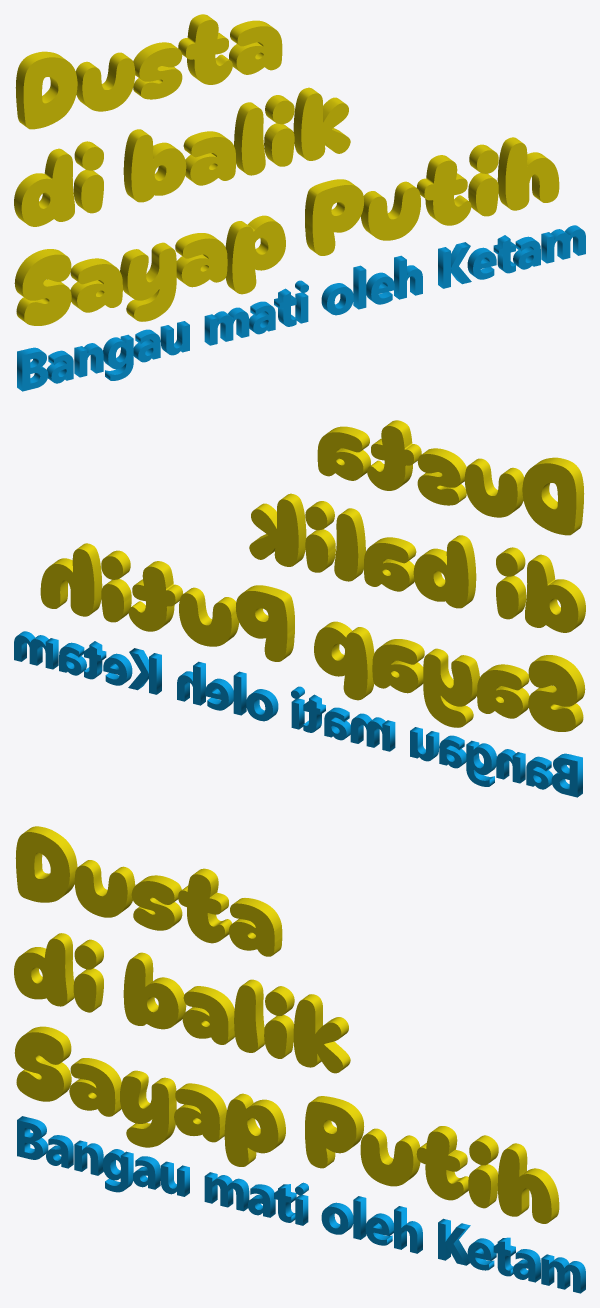
3 renders of one model, top to bottom at view 1: azimuth 30°, elevation 25°; view 2: azimuth 150°, elevation 25°; view 3: azimuth 330°, elevation 25°, orthographic.
Parts seen in each view (by area): view 1: Text; view 2: Text; view 3: Text.
Boxes of the visible parts, x1=… form: Text: x1=14, y1=14, x2=585, y2=391; Text: x1=14, y1=420, x2=585, y2=797; Text: x1=14, y1=826, x2=585, y2=1293.
Bounding box in the file's own units: 5.95 × 3.43 × 0.14.
